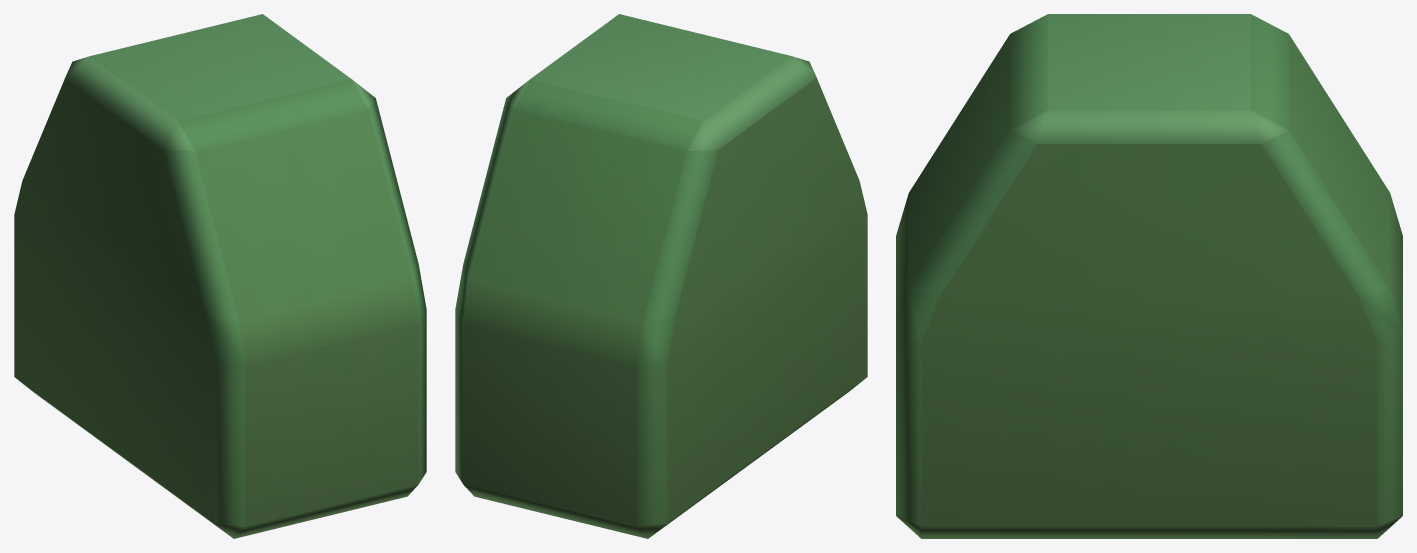
The model's file is railing_straight_half.fbx.
3 views of the same model, side by side, from view 1: azimuth 30°, elevation 25°; view 2: azimuth 150°, elevation 25°; view 3: azimuth 270°, elevation 25° (orthographic). The views are drawn at different scales.
Parts seen in each view (by area): view 1: railing_straight_half; view 2: railing_straight_half; view 3: railing_straight_half.
Part boxes in pixels (x1,y1,x2,y2): railing_straight_half: (14, 14, 426, 538); railing_straight_half: (455, 14, 867, 538); railing_straight_half: (896, 14, 1402, 538).
Bounding box in the file's own units: 55 × 93.3 × 100.
